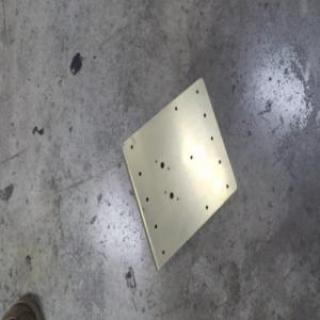MetalSheettrack_idkeyframe: (117, 75, 238, 272)
